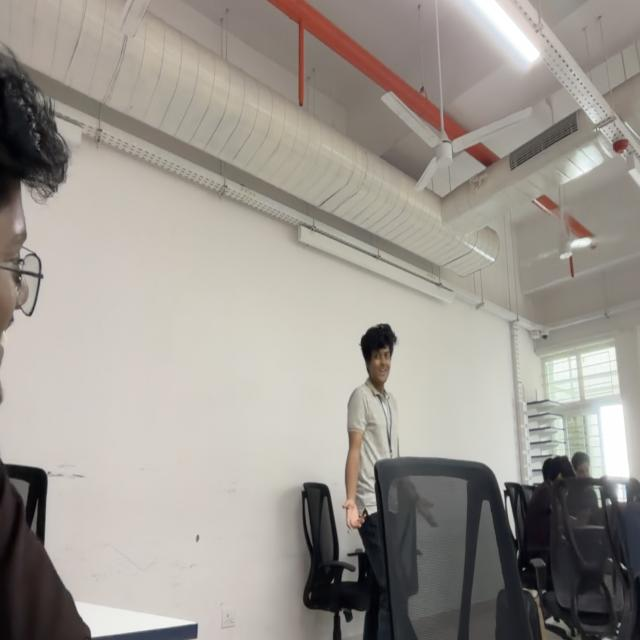kshitij: (360, 325, 397, 386)
